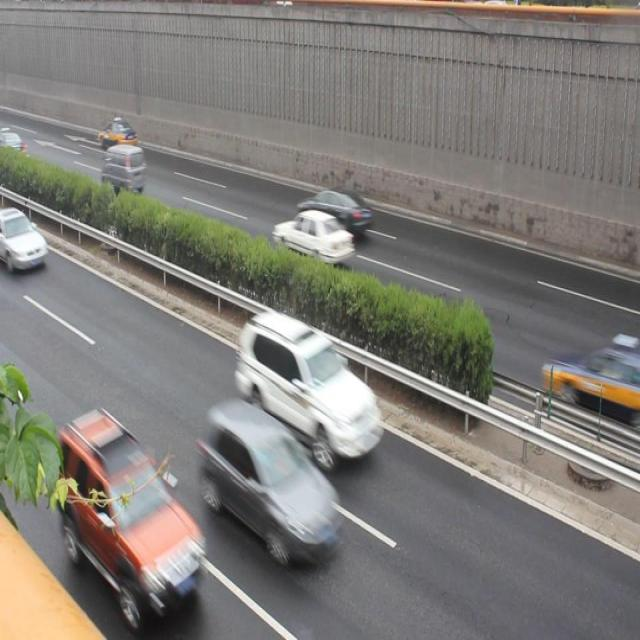car: (55, 413, 205, 612), (200, 405, 344, 556), (237, 308, 382, 456), (273, 210, 354, 266), (294, 186, 371, 235), (1, 206, 46, 273), (98, 120, 137, 150)
truck: (102, 145, 147, 193)
